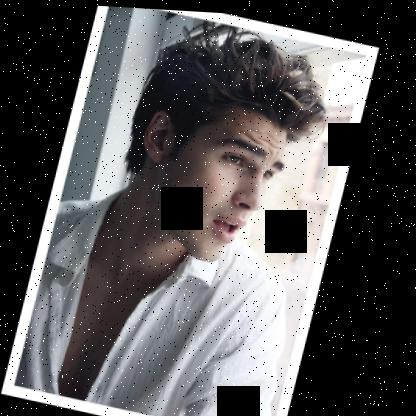Male: (118, 85, 298, 271)
